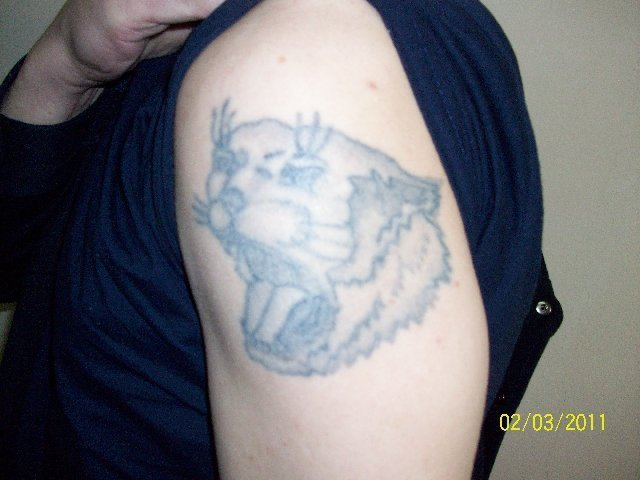tatu8_kot: (178, 77, 470, 395)
